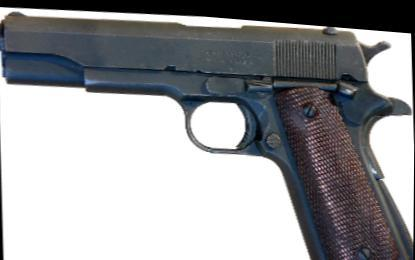pistol: (0, 0, 411, 257)
